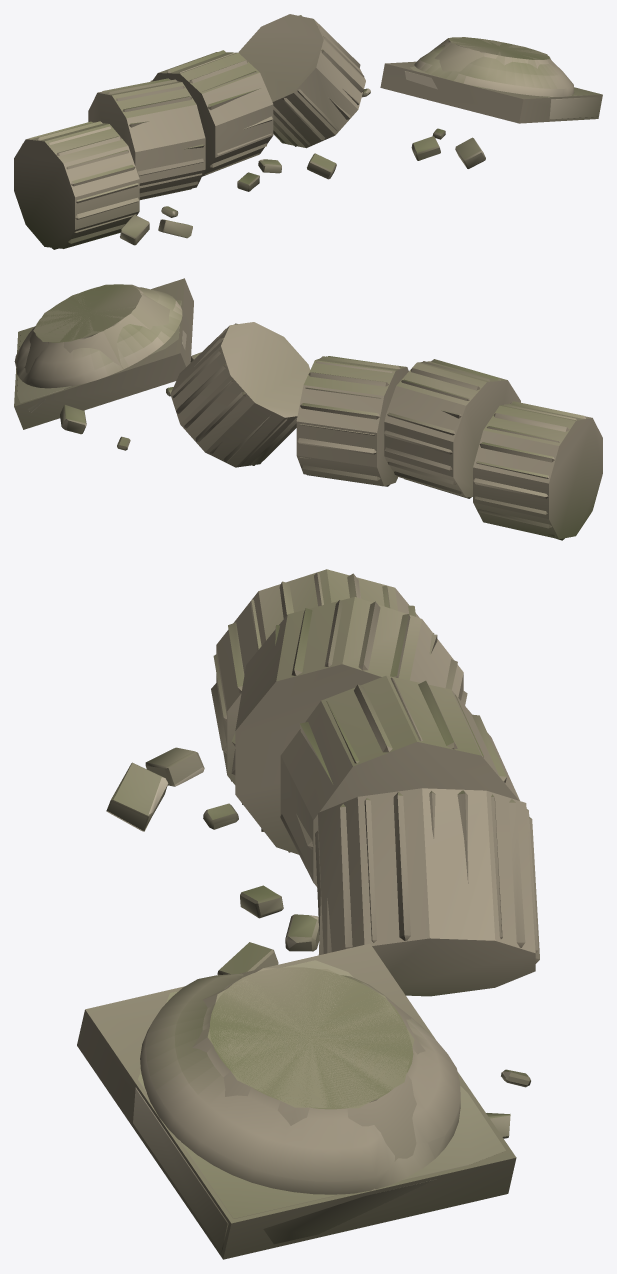
The model's file is column_drums.glb.
The picture shows the model from 3 angles, top to bottom: view 1: azimuth 30°, elevation 25°; view 2: azimuth 150°, elevation 25°; view 3: azimuth 270°, elevation 25°; orthographic projection. The views are drawn at different scales.
Visible parts, largest first — view 1: column_drums_far, column_drums; view 2: column_drums_far, column_drums; view 3: column_drums_far, column_drums.
Boxes of the visible parts, <box> form: column_drums_far: <box>14,14,602,248</box>; column_drums: <box>22,15,601,249</box>; column_drums_far: <box>14,278,602,539</box>; column_drums: <box>14,284,585,540</box>; column_drums_far: <box>77,569,535,1259</box>; column_drums: <box>106,572,539,1252</box>.
Size of the model in its own units: 19.87 by 4.91 by 7.41.
